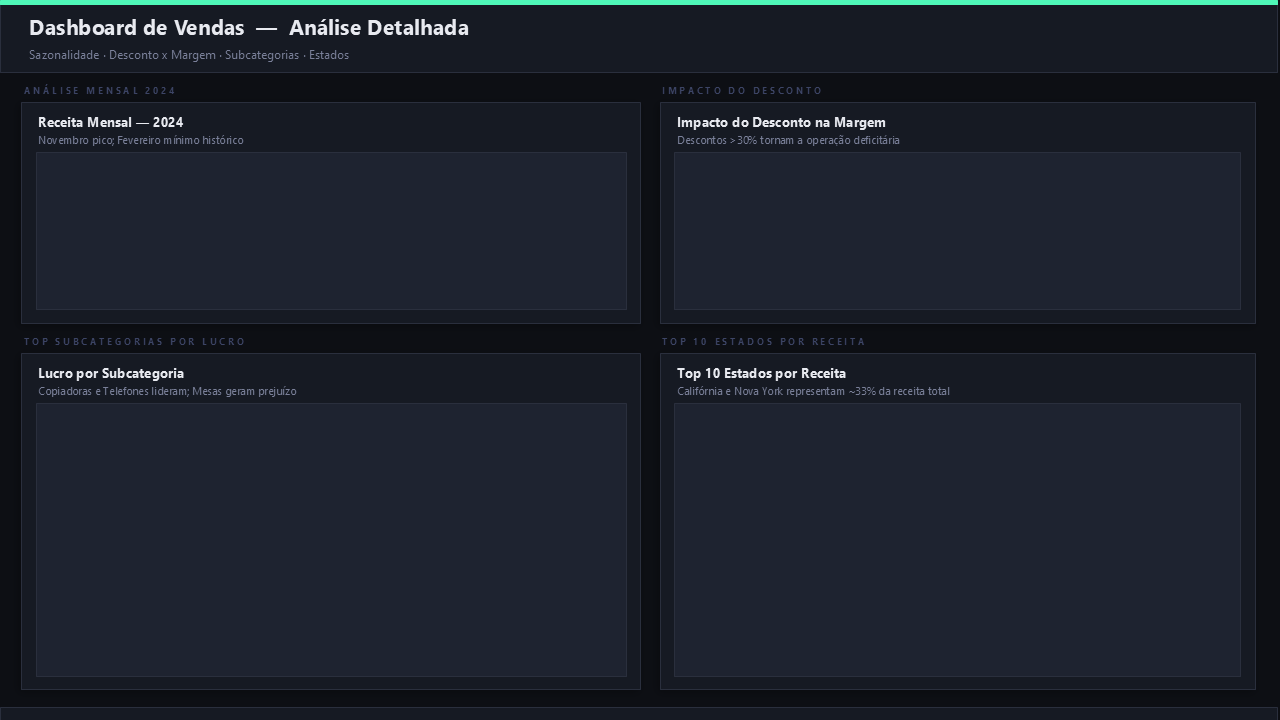

Layout of this report page (visuals, bound fields, positions):
{"tool":"powerbi","page":{"name":"Página 2","canvas":[1280,720],"ordinal":1},"visuals":[{"type":"areaChart","fields":{"Y":["dados_finais.Total Vendas"],"Category":["Calendario.Mes","Calendario.Mes Numero"]},"box":[21.6,146.9,617.8,168.5],"z":0},{"type":"tableEx","fields":{"Values":["dados_finais.subcategoria","dados_finais.Total Vendas","dados_finais.Lucro Total","dados_finais.Marger %"]},"box":[34.1,396,593.3,290.7],"z":1000},{"type":"columnChart","fields":{"Category":["dados_finais.estado"],"Y":["dados_finais.Total Vendas"]},"box":[663,396,593.3,290.7],"z":2000},{"type":"clusteredColumnChart","fields":{"Category":["dados_finais.Faixa Desconto"],"Y":["dados_finais.Média Margem %"]},"box":[663,146.8,593.3,169.1],"z":4000}]}

Visuals, with their boxes in screenshot pixels (x1, y1, x2, y2), scaled from the page's 1280x720 canvas onto the 1280x720 screenshot:
areaChart - dados_finais.Total Vendas x Calendario.Mes: x1=22, y1=147, x2=639, y2=315
tableEx - dados_finais.subcategoria x dados_finais.Total Vendas: x1=34, y1=396, x2=627, y2=687
columnChart - dados_finais.estado x dados_finais.Total Vendas: x1=663, y1=396, x2=1256, y2=687
clusteredColumnChart - dados_finais.Faixa Desconto x dados_finais.Média Margem %: x1=663, y1=147, x2=1256, y2=316
